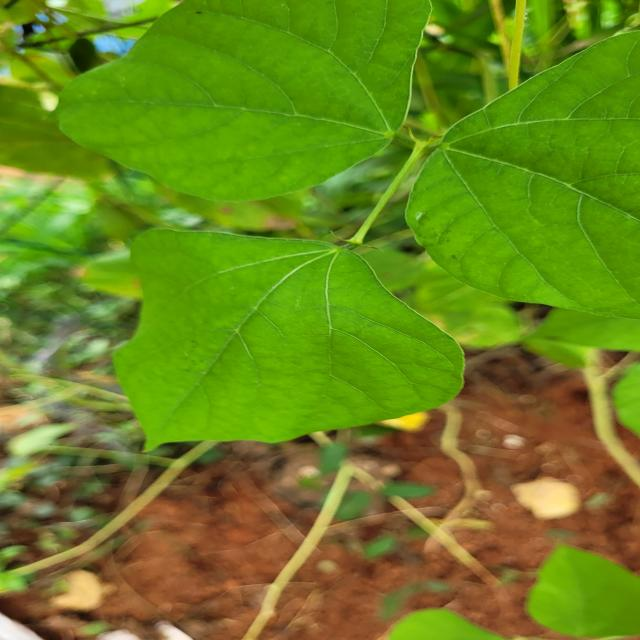Dolicos bean_healthy: (110, 224, 468, 444), (61, 0, 429, 203), (415, 18, 640, 342)
